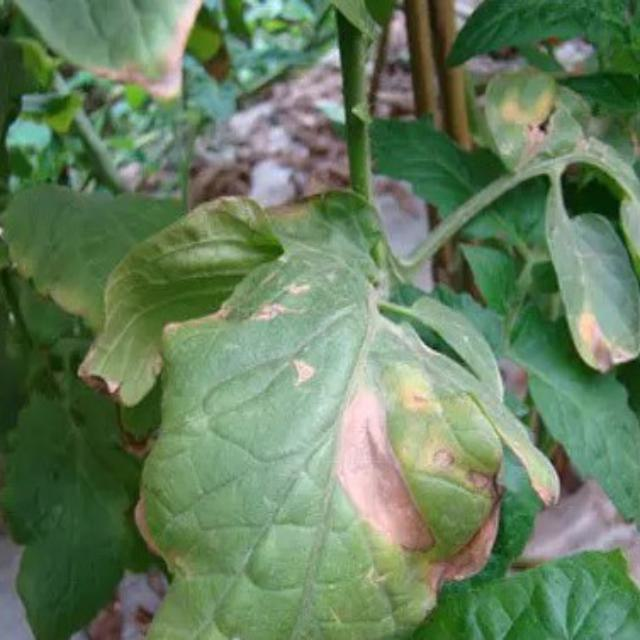Late_blight: (333, 368, 503, 611), (488, 82, 566, 170), (576, 303, 640, 376), (513, 438, 562, 509), (72, 358, 127, 406), (129, 490, 162, 562), (108, 424, 166, 456), (248, 298, 292, 325), (286, 354, 316, 385)
